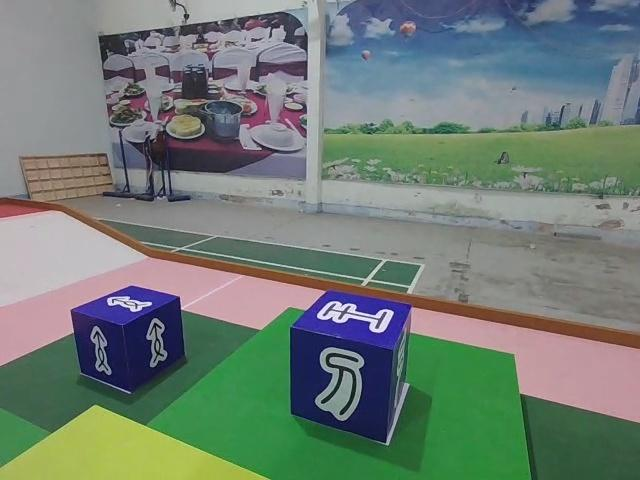R2 Fake Blue: (290, 291, 414, 449)
R2 Real Blue: (73, 285, 188, 396)
